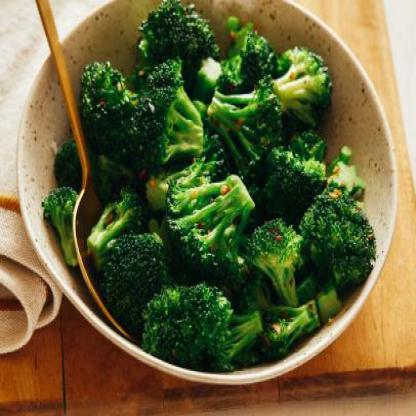broccoli: (37, 0, 379, 373)
